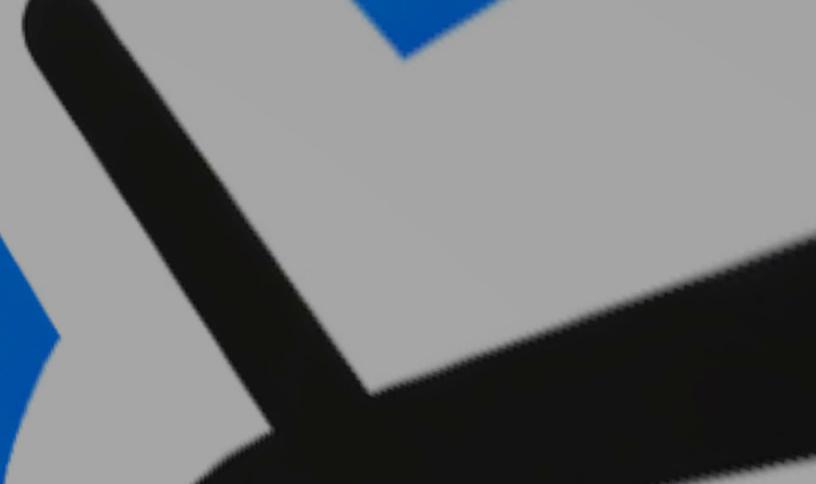KFS_REAL: (0, 0, 815, 483), (0, 0, 815, 482)
